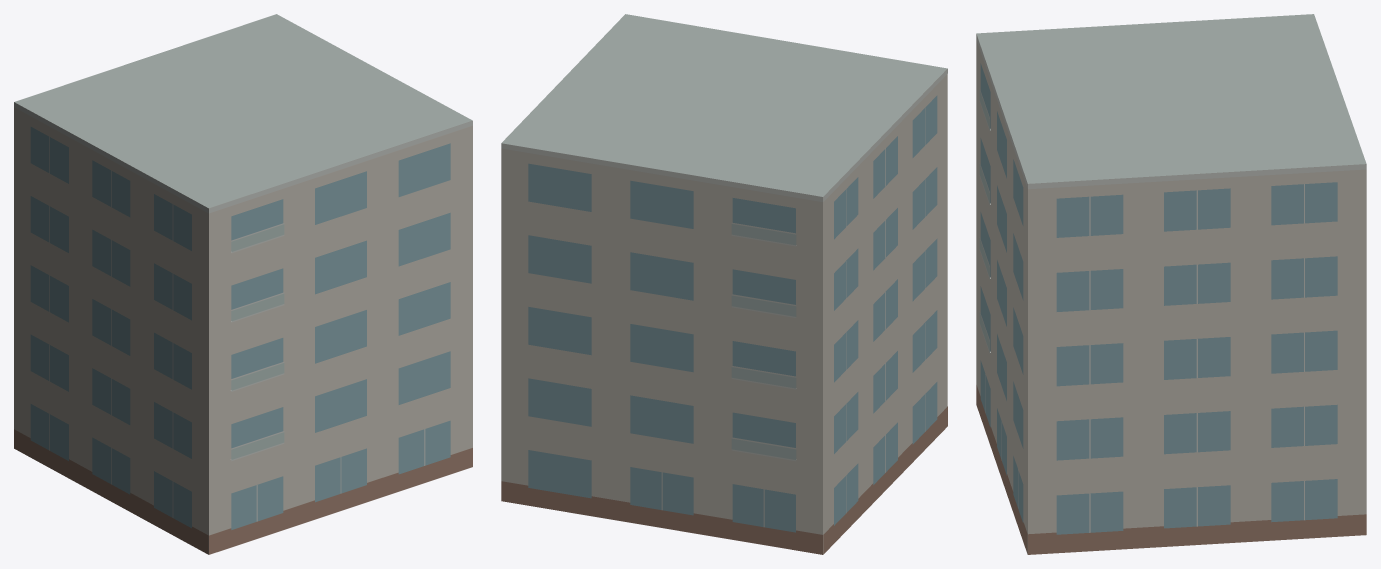
File: survey-upis-32577960.glb
3 views of the same model, side by side, from view 1: azimuth 30°, elevation 25°; view 2: azimuth 150°, elevation 25°; view 3: azimuth 270°, elevation 25° (orthographic). The views are drawn at different scales.
Visible parts, largest first — view 1: survey-upis-32577960.tmp; view 2: survey-upis-32577960.tmp; view 3: survey-upis-32577960.tmp.
Boxes of the visible parts, <box> form: survey-upis-32577960.tmp: <box>14,14,472,554</box>; survey-upis-32577960.tmp: <box>501,14,947,554</box>; survey-upis-32577960.tmp: <box>976,14,1366,554</box>.
Bounding box in the file's own units: 16.31 × 16.6 × 15.84.
